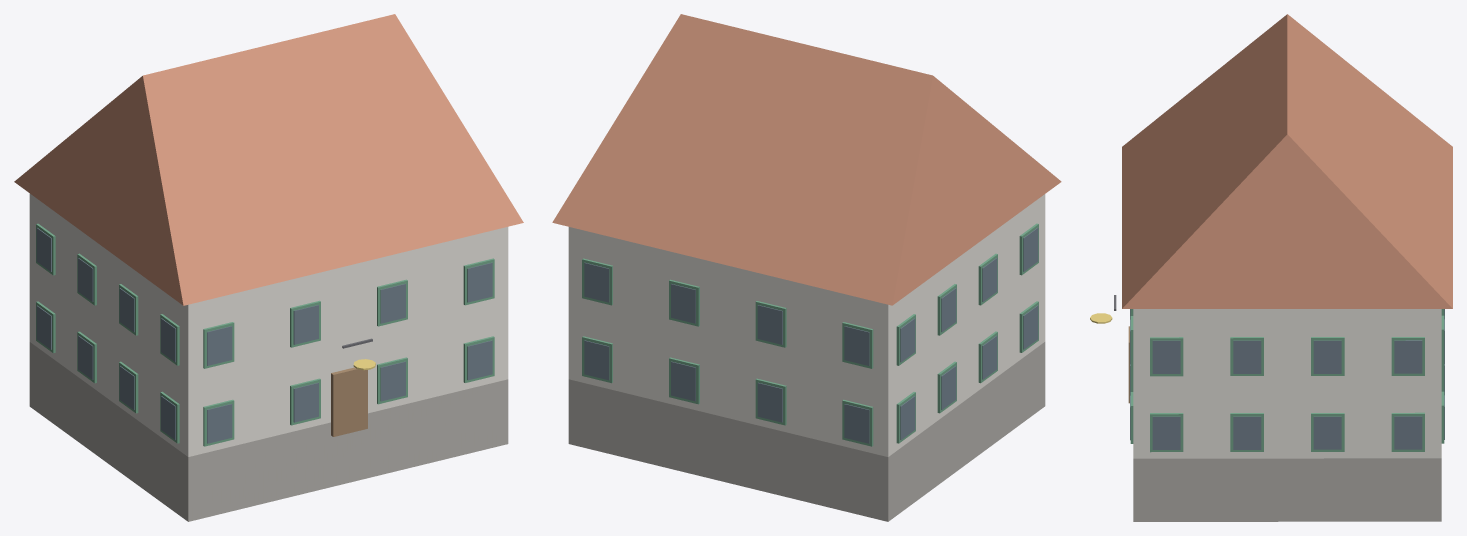
File: inn-pfaffen-keller.glb
The picture shows the model from 3 angles, left to right: view 1: azimuth 30°, elevation 25°; view 2: azimuth 150°, elevation 25°; view 3: azimuth 270°, elevation 25°; orthographic projection. The views are drawn at different scales.
Visible parts, largest first — view 1: building; view 2: building; view 3: building.
Part boxes in pixels (x1,y1,x2,y2): building: (14,14,523,521); building: (552,14,1061,521); building: (1090,14,1452,521).
Size of the model in its own units: 13.74 by 14.68 by 12.99.
